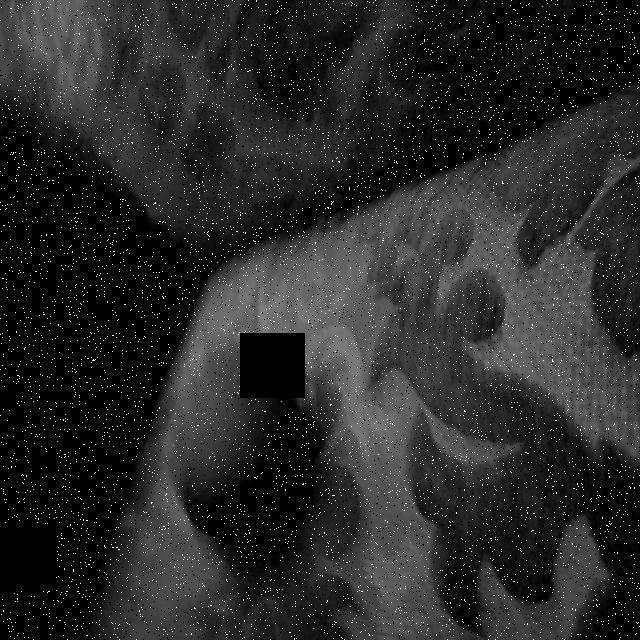egg: (175, 333, 305, 543)
